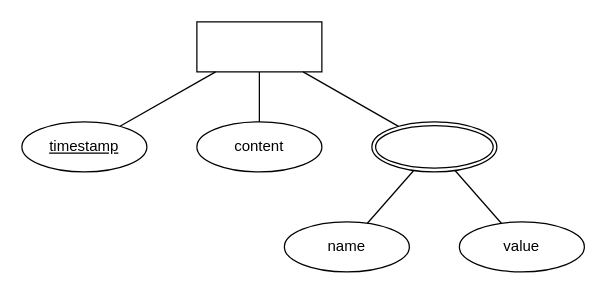
The diagram is 606 pixels wide and 294 high, and some of its shapes have lost their labels. Here are the shapes that lost their labels. From the top down, the centre of each, then its label:
(259,46): message
(434,146): tag
